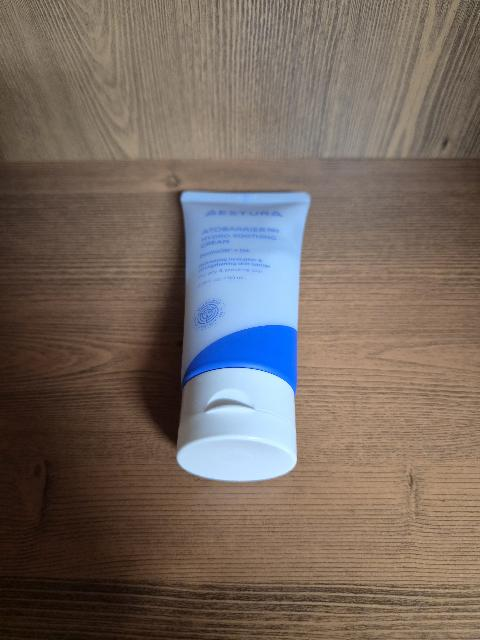handcream: (176, 191, 311, 482)
